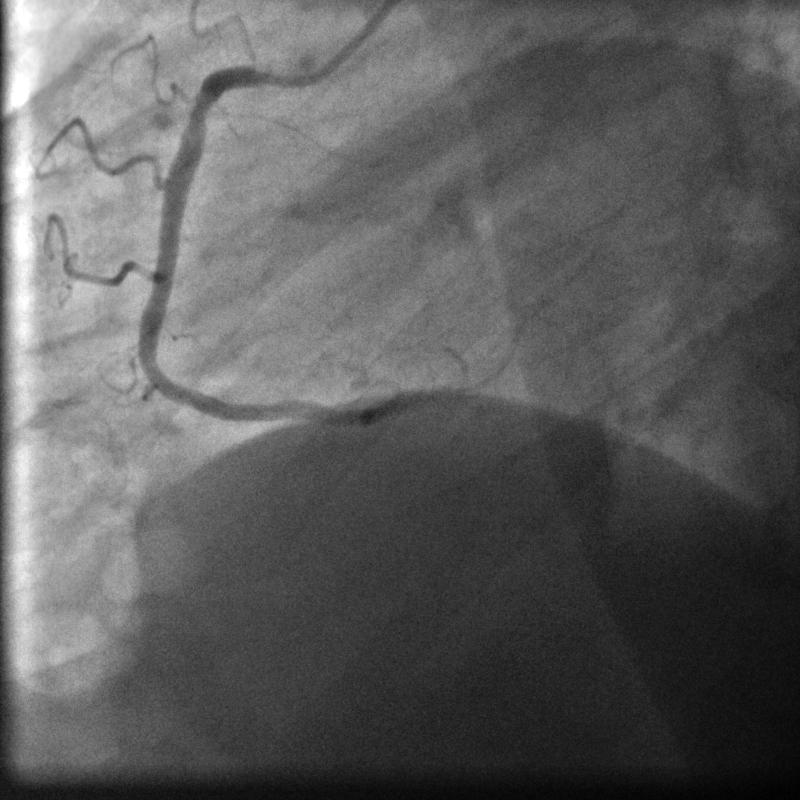Stenosis: (186, 81, 211, 138)
